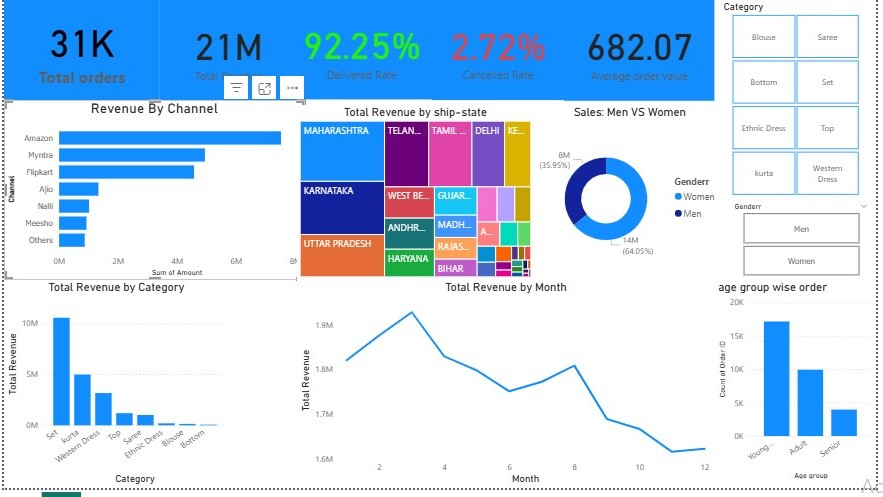

Layout of this report page (visuals, bound fields, positions):
{"tool":"powerbi","page":{"name":"JD store","canvas":[1280,720],"ordinal":0},"visuals":[{"type":"card","fields":{"Values":["JD Store.Total orders"]},"box":[0,0,229.1,150.5],"z":0},{"type":"card","fields":{"Values":["JD Store.Delivered Rate"]},"box":[411.5,0,228.5,148.6],"z":1000},{"type":"card","fields":{"Values":["JD Store.Average order value"]},"box":[823.4,0,221.2,150.5],"z":2000},{"type":"card","fields":{"Values":["JD Store.Total Revenue"]},"box":[229.1,0,201.6,150.5],"z":3000},{"type":"card","fields":{"Values":["JD Store.Cancelled Rate"]},"box":[629,0,194.1,150],"z":4000},{"type":"barChart","title":"Revenue By Channel","fields":{"Category":["JD Store.Channel "],"Y":["Sum(JD Store.Amount)"]},"box":[0,150,441.8,264.3],"z":5000},{"type":"slicer","fields":{"Values":["JD Store.Genderr"]},"box":[1060.4,295.9,219.9,119.1],"z":6000},{"type":"treemap","fields":{"Group":["JD Store.ship-state"],"Values":["JD Store.Total Revenue"]},"box":[430.8,156.9,348.2,257.4],"z":7000},{"type":"donutChart","title":"Sales: Men VS Women","fields":{"Category":["JD Store.Genderr"],"Y":["JD Store.Total Revenue"]},"box":[778.9,157.1,281.5,256.6],"z":8000},{"type":"columnChart","fields":{"Category":["JD Store.Category"],"Y":["JD Store.Total Revenue"]},"box":[0,414.3,330.3,305.5],"z":9000},{"type":"lineChart","fields":{"Y":["JD Store.Total Revenue"],"Category":["JD Store.Month"]},"box":[430.8,414.3,613.8,305.5],"z":10000},{"type":"columnChart","title":"age group wise order","fields":{"Category":["JD Store.Age group"],"Y":["CountNonNull(JD Store.Order ID)"]},"box":[1044.6,414.3,235.4,297.3],"z":11000},{"type":"slicer","fields":{"Values":["JD Store.Category"]},"box":[1044.6,0,235.4,295.9],"z":12000}]}

Visuals, with their boxes in screenshot pixels (x1, y1, x2, y2), scaled from the page's 1280x720 canvas onto the 883x497 screenshot:
card - JD Store.Total orders: (x1=0, y1=0, x2=158, y2=104)
card - JD Store.Delivered Rate: (x1=284, y1=0, x2=442, y2=103)
card - JD Store.Average order value: (x1=568, y1=0, x2=721, y2=104)
card - JD Store.Total Revenue: (x1=158, y1=0, x2=297, y2=104)
card - JD Store.Cancelled Rate: (x1=434, y1=0, x2=568, y2=104)
"Revenue By Channel" barChart: (x1=0, y1=104, x2=305, y2=286)
slicer - JD Store.Genderr: (x1=732, y1=204, x2=882, y2=286)
treemap - JD Store.ship-state x JD Store.Total Revenue: (x1=297, y1=108, x2=537, y2=286)
"Sales: Men VS Women" donutChart: (x1=537, y1=108, x2=732, y2=286)
columnChart - JD Store.Category x JD Store.Total Revenue: (x1=0, y1=286, x2=228, y2=496)
lineChart - JD Store.Total Revenue x JD Store.Month: (x1=297, y1=286, x2=721, y2=496)
"age group wise order" columnChart: (x1=721, y1=286, x2=882, y2=491)
slicer - JD Store.Category: (x1=721, y1=0, x2=882, y2=204)
